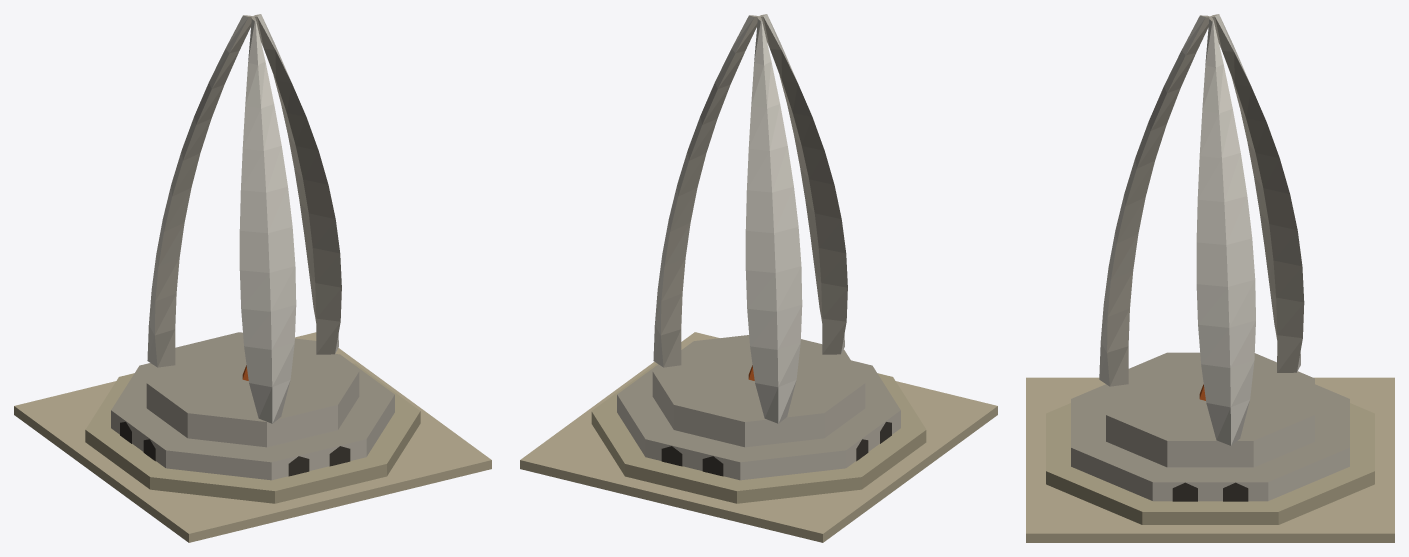
The model's file is maqam.glb.
3 renders of one model, left to right at view 1: azimuth 30°, elevation 25°; view 2: azimuth 150°, elevation 25°; view 3: azimuth 270°, elevation 25°, orthographic. The views are drawn at different scales.
Visible parts, largest first — view 1: maqam; view 2: maqam; view 3: maqam.
Boxes of the visible parts, left/top/right/bottom form: maqam: left=14, top=14, right=491, bottom=542; maqam: left=520, top=14, right=997, bottom=542; maqam: left=1026, top=14, right=1394, bottom=542.
Size of the model in its own units: 1.76 by 2.36 by 1.76.
